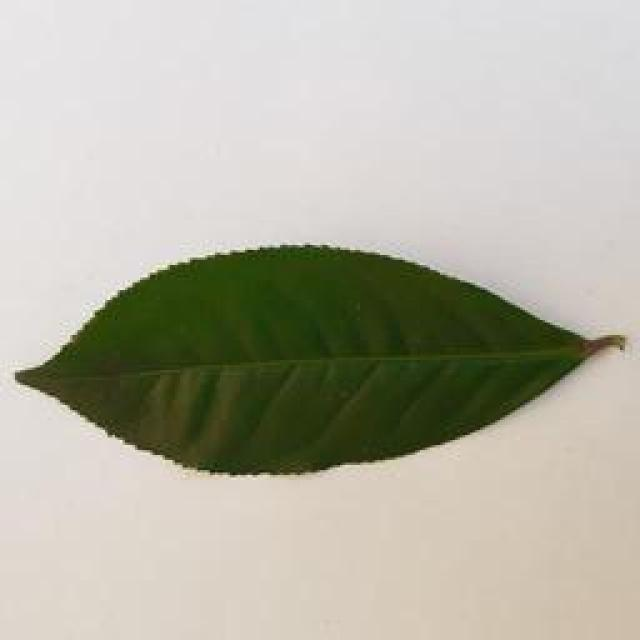Healthy: (3, 228, 638, 490)
